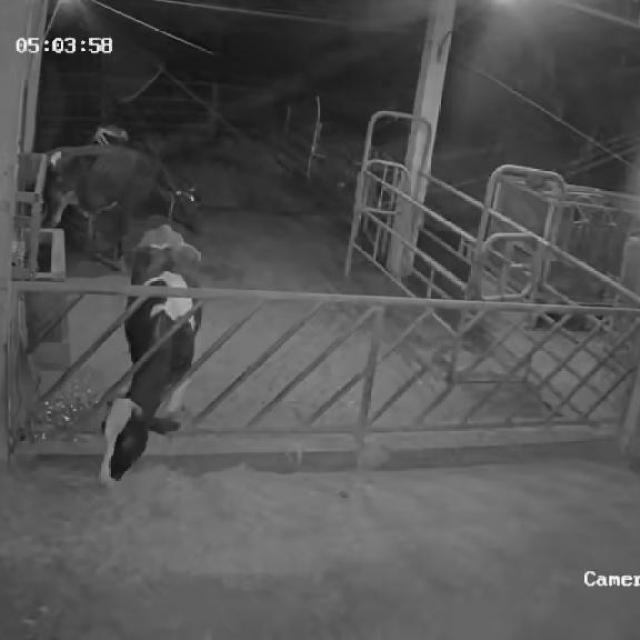feeding: (99, 228, 197, 482)
standing: (27, 146, 204, 268)
